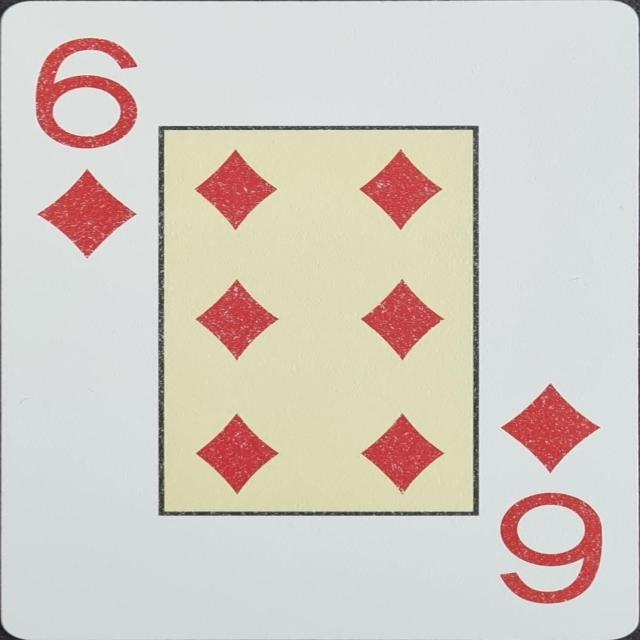6d: (496, 377, 608, 607), (31, 35, 141, 259)
